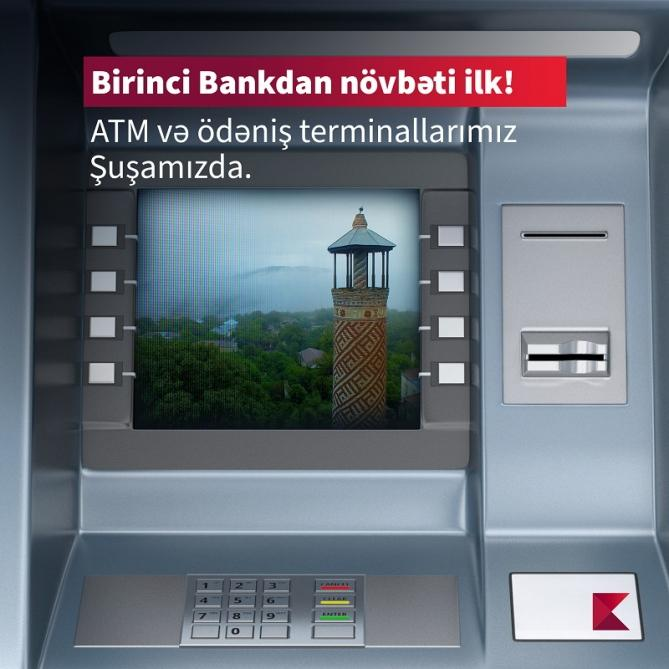Kapital Bank: (590, 590, 632, 632)
